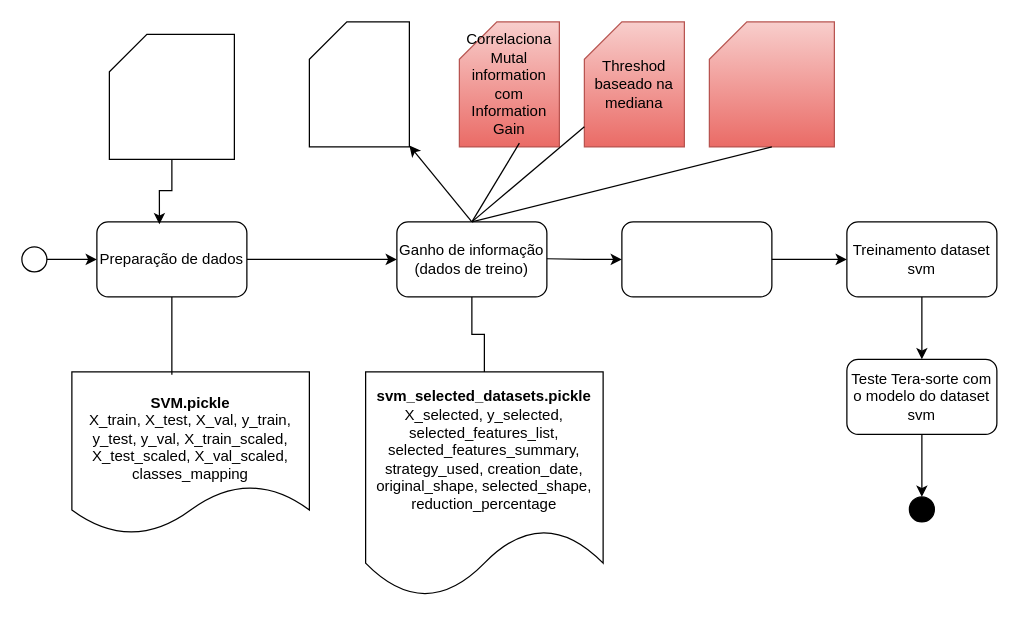
This 1019x619 diagram has some shape labels left out. Here are the shapes that lost their labels. From the top down, the centre of each, then its label:
the point at 171,96: treino = 40% teste = 30% validaçao = 30%
the point at 358,84: Mutual Gain Information
the point at 771,84: Drop campos altamente correlacionados
the point at 696,259: GridSearch com os modelos
